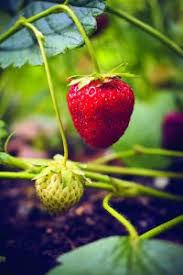ripe: (65, 70, 139, 152)
unripe: (34, 163, 94, 215)
